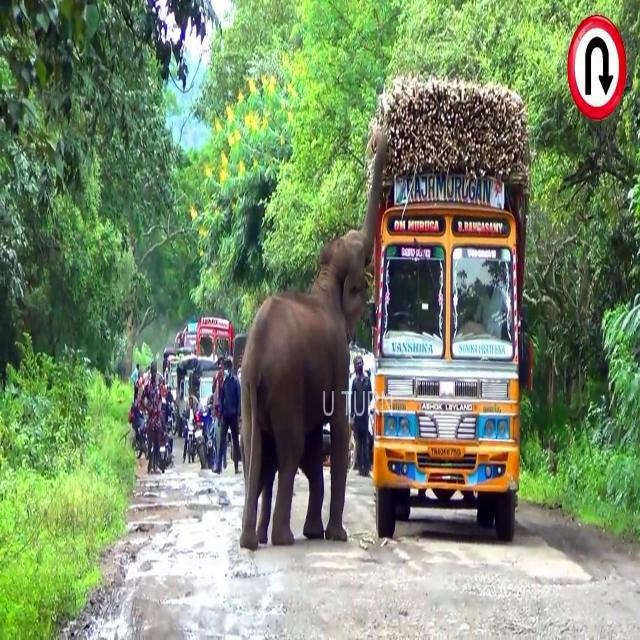Elephant: (239, 124, 389, 550)
